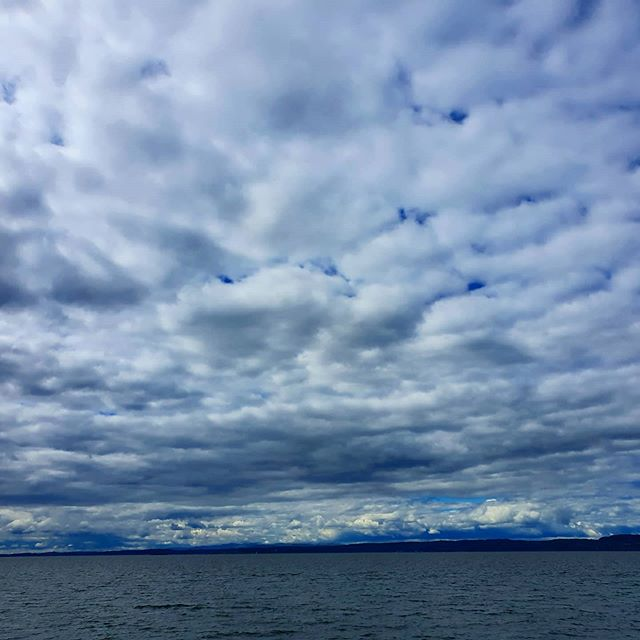sea: (1, 556, 640, 640)
sky: (1, 1, 640, 535)
